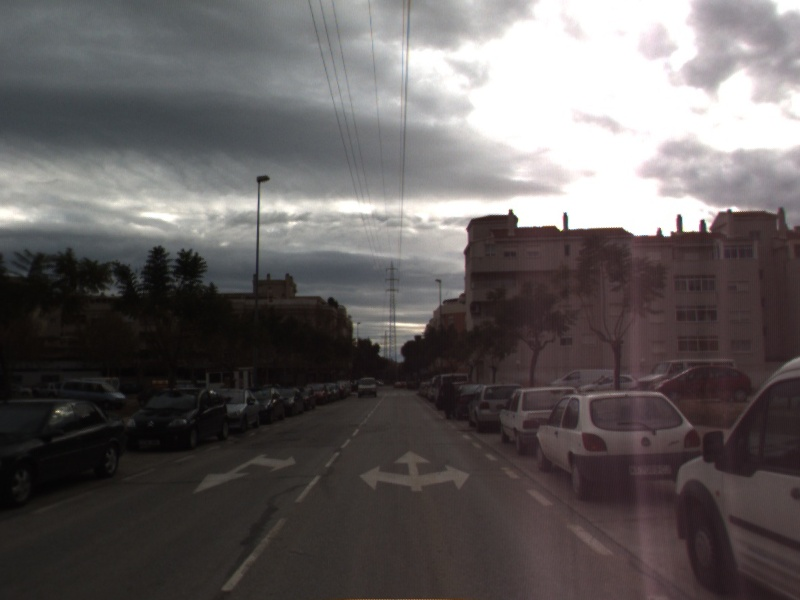STRAIGHT_LEFT_RIGHT: (357, 448, 472, 493)
